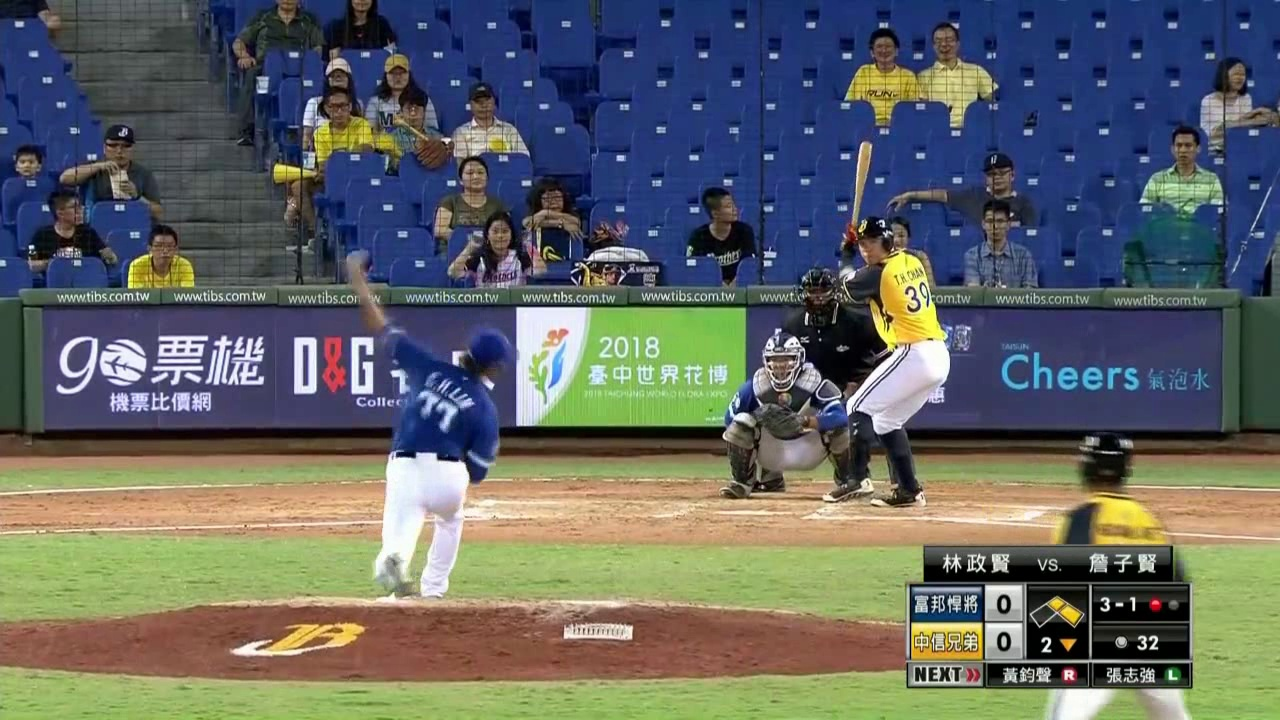base: (1029, 592, 1086, 628)
bat: (849, 135, 875, 223)
out: (1142, 588, 1185, 620)
score1: (988, 588, 1020, 619)
score2: (989, 625, 1020, 655)
session: (1026, 631, 1088, 656)
strikeball: (1093, 589, 1141, 623)
total: (1091, 628, 1188, 661)
